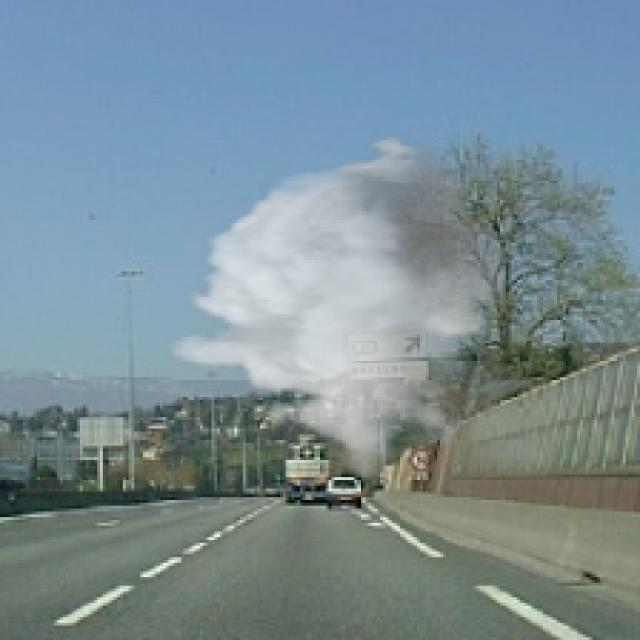smoke: (166, 131, 531, 480)
